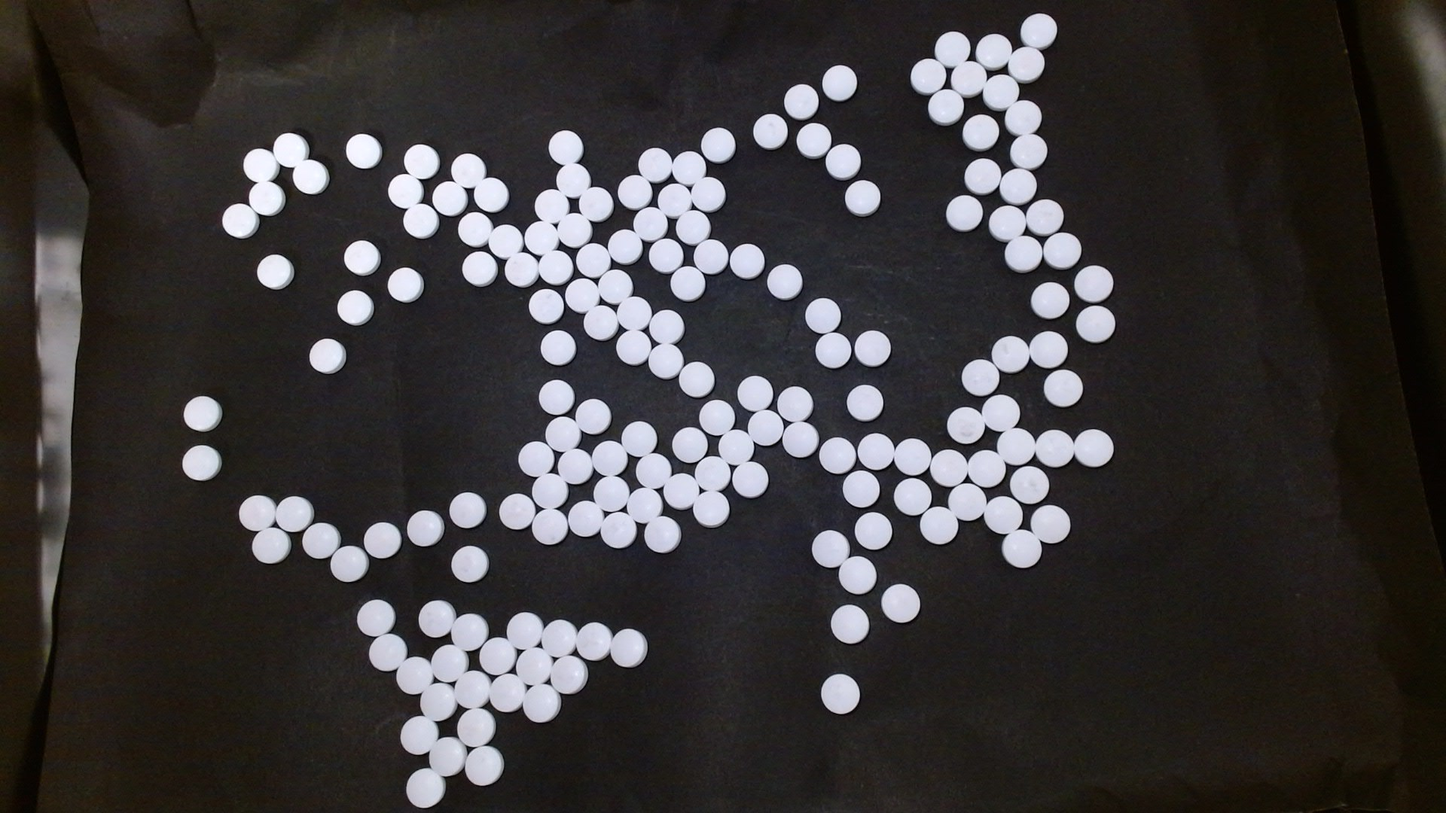Circle: (1072, 428, 1115, 469), (819, 673, 860, 714), (837, 555, 877, 596), (1030, 504, 1071, 544), (880, 583, 920, 624), (1033, 429, 1074, 469), (1001, 529, 1042, 569), (464, 745, 503, 787), (990, 334, 1030, 374), (398, 715, 438, 755), (1043, 369, 1084, 408), (395, 655, 434, 696), (450, 611, 489, 652), (830, 603, 869, 644), (456, 706, 495, 747), (853, 510, 892, 550), (893, 477, 932, 517), (960, 358, 999, 398), (1010, 464, 1049, 504), (1075, 304, 1115, 343), (1073, 264, 1113, 303), (417, 599, 456, 639), (811, 528, 850, 568), (355, 598, 395, 637), (251, 526, 291, 565), (406, 768, 445, 808), (488, 672, 526, 713), (549, 655, 587, 696), (609, 627, 647, 668), (929, 449, 968, 488), (997, 427, 1036, 466), (368, 632, 407, 671), (982, 393, 1020, 433), (892, 437, 930, 477), (984, 495, 1022, 535), (691, 490, 731, 528), (522, 683, 560, 723), (946, 406, 984, 445), (1042, 231, 1081, 269), (1029, 329, 1067, 368), (1030, 280, 1069, 318), (478, 636, 516, 675), (920, 506, 958, 545), (329, 545, 368, 583), (450, 544, 488, 583), (431, 643, 468, 683), (237, 494, 277, 531), (453, 669, 490, 709), (181, 445, 221, 482), (949, 481, 987, 519), (842, 470, 880, 508), (856, 432, 894, 470), (592, 474, 630, 512), (574, 397, 612, 435), (363, 521, 401, 559), (853, 329, 891, 367), (999, 167, 1037, 205), (1009, 132, 1048, 169), (846, 383, 883, 422), (540, 619, 577, 658), (575, 621, 612, 660), (419, 681, 456, 720), (274, 495, 313, 532), (516, 647, 552, 687), (1025, 198, 1063, 235), (246, 181, 284, 218), (962, 113, 999, 151), (531, 471, 568, 509), (1004, 99, 1042, 136), (590, 439, 627, 477), (731, 460, 768, 498), (945, 194, 982, 232), (819, 437, 856, 475), (302, 522, 340, 559), (1004, 235, 1042, 272), (1008, 44, 1045, 82), (698, 398, 735, 436), (814, 331, 851, 369), (538, 378, 575, 416), (406, 510, 444, 547), (448, 492, 486, 529), (498, 492, 535, 530), (1020, 12, 1057, 50), (615, 327, 651, 366), (532, 507, 568, 546), (429, 736, 465, 775), (694, 455, 731, 492), (963, 157, 1000, 194), (517, 440, 554, 477), (471, 176, 508, 213), (776, 385, 813, 422), (950, 59, 987, 96), (539, 329, 576, 366), (643, 516, 680, 553), (344, 132, 381, 169), (291, 159, 329, 195), (336, 289, 374, 325), (747, 408, 783, 446), (844, 179, 880, 217), (737, 374, 773, 412), (600, 512, 636, 550), (975, 32, 1011, 70), (933, 30, 971, 66), (308, 338, 346, 374), (183, 395, 221, 431), (616, 294, 651, 333), (557, 448, 593, 485), (343, 239, 380, 275), (545, 415, 581, 452), (387, 266, 423, 303), (927, 88, 963, 125), (982, 74, 1018, 111), (648, 342, 684, 379), (221, 203, 258, 239), (635, 452, 671, 489), (450, 151, 487, 187), (691, 238, 728, 274), (821, 64, 857, 101), (508, 612, 543, 650), (568, 499, 603, 537), (256, 254, 294, 289), (272, 132, 310, 167), (987, 204, 1023, 240), (671, 425, 707, 461), (718, 429, 754, 465), (804, 297, 840, 333), (678, 361, 714, 397), (674, 209, 710, 245), (968, 449, 1003, 486), (621, 419, 656, 456), (663, 472, 698, 509), (537, 248, 572, 285), (910, 57, 945, 94), (690, 175, 725, 212), (752, 112, 787, 149), (825, 144, 860, 180), (387, 173, 422, 209), (796, 122, 831, 158), (649, 309, 684, 345), (782, 421, 817, 457), (457, 211, 492, 247), (403, 143, 439, 178), (556, 212, 591, 248), (729, 242, 764, 278), (597, 268, 633, 303), (649, 237, 684, 273), (700, 126, 735, 162), (767, 263, 801, 300), (432, 180, 467, 215), (670, 266, 705, 301), (488, 223, 523, 258), (671, 149, 706, 184), (528, 288, 562, 324), (462, 250, 496, 286), (783, 83, 817, 119), (243, 147, 279, 181), (657, 181, 691, 217), (505, 251, 539, 287), (608, 228, 642, 264), (403, 203, 438, 237), (584, 306, 618, 341), (556, 162, 591, 196), (637, 147, 672, 181), (548, 129, 582, 164), (524, 220, 557, 256), (618, 174, 651, 210), (578, 187, 612, 221), (535, 188, 569, 222), (627, 487, 660, 522), (576, 241, 609, 276), (634, 206, 667, 241), (565, 277, 597, 312)
